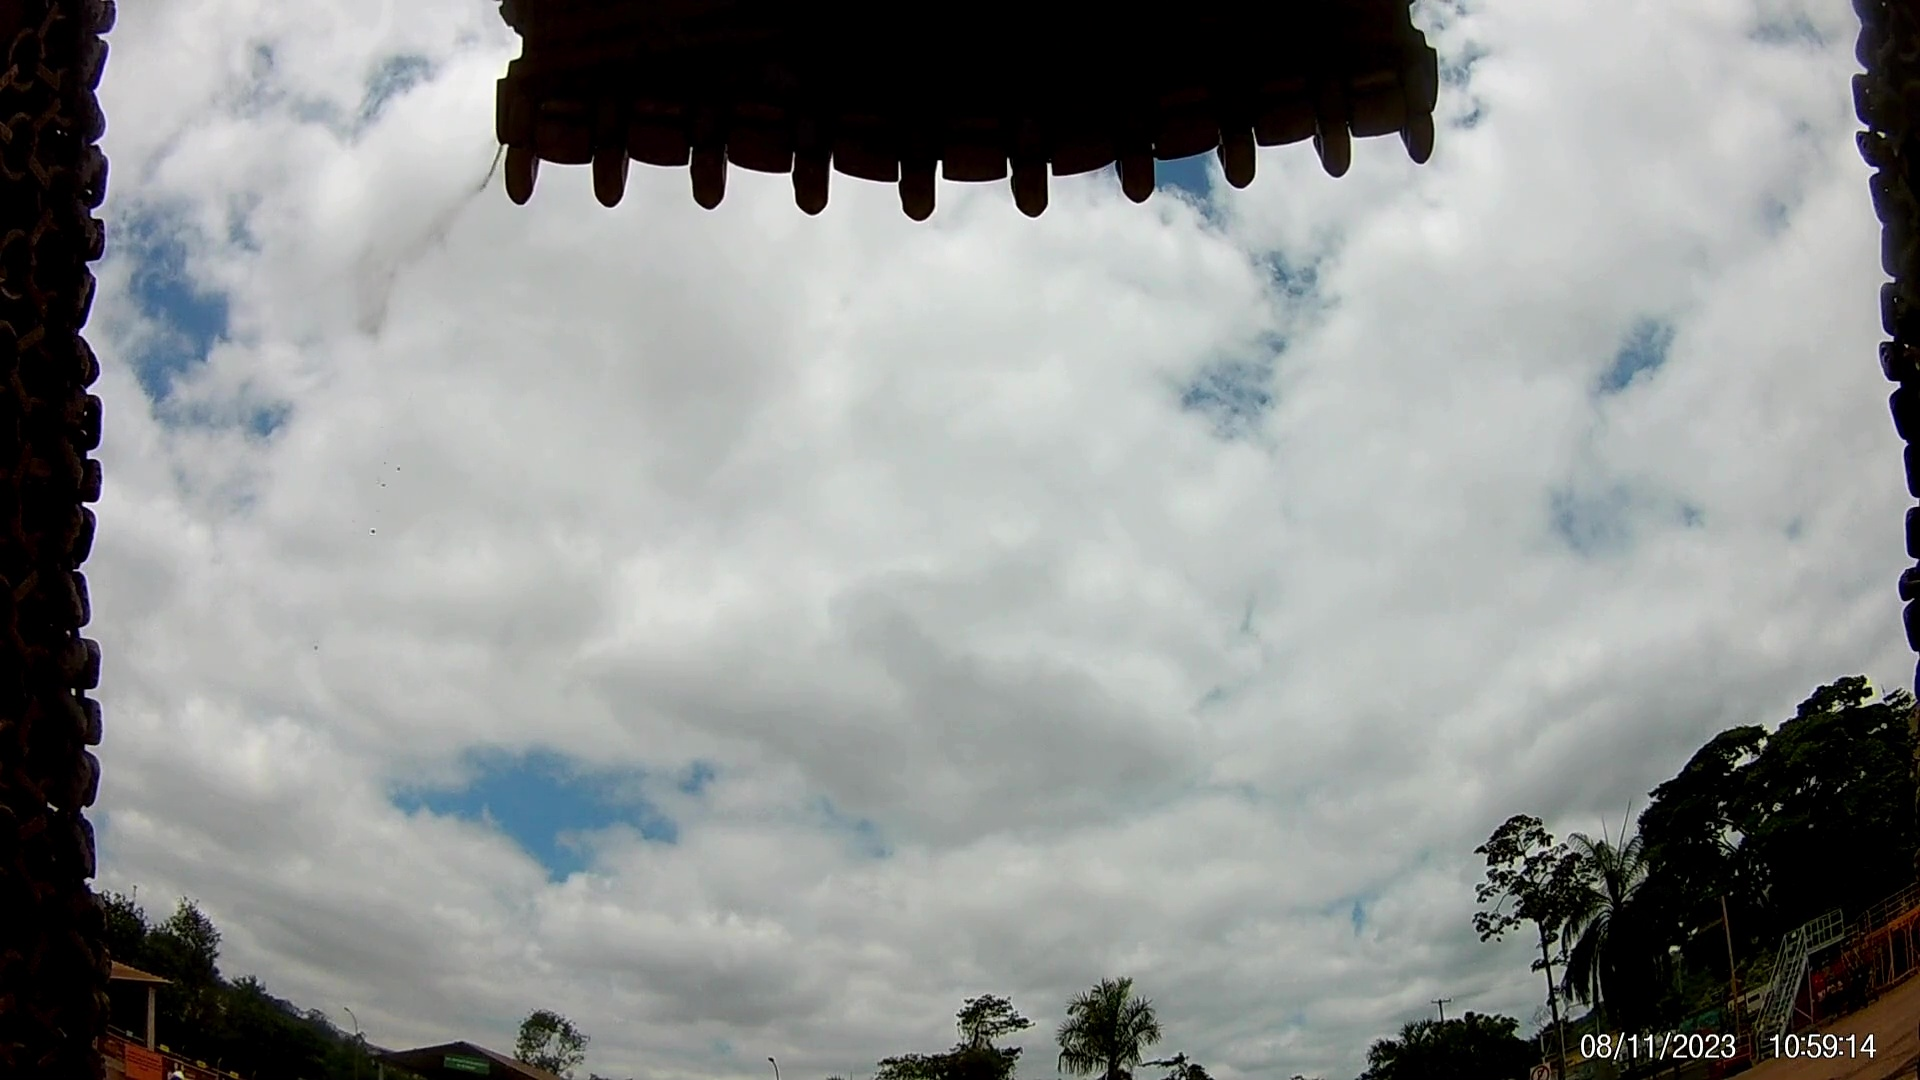FPS: (1000, 148, 1073, 241), (1211, 103, 1273, 210), (880, 150, 957, 233), (575, 142, 651, 222), (684, 135, 744, 222), (489, 148, 566, 215), (1404, 95, 1458, 181), (782, 148, 844, 222), (1311, 123, 1375, 186), (1124, 129, 1156, 204)
